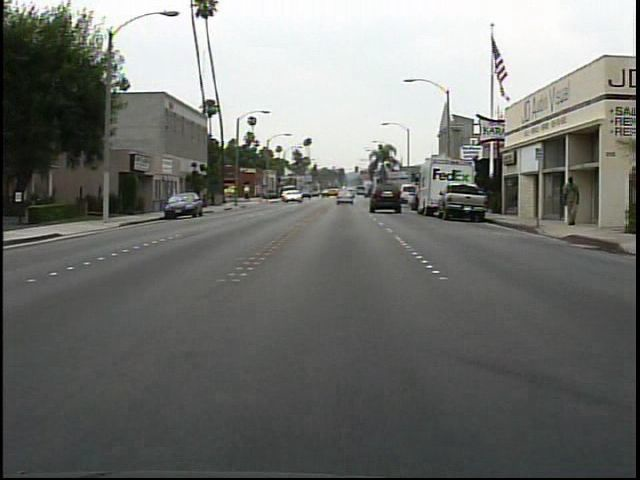person: (553, 172, 582, 229)
